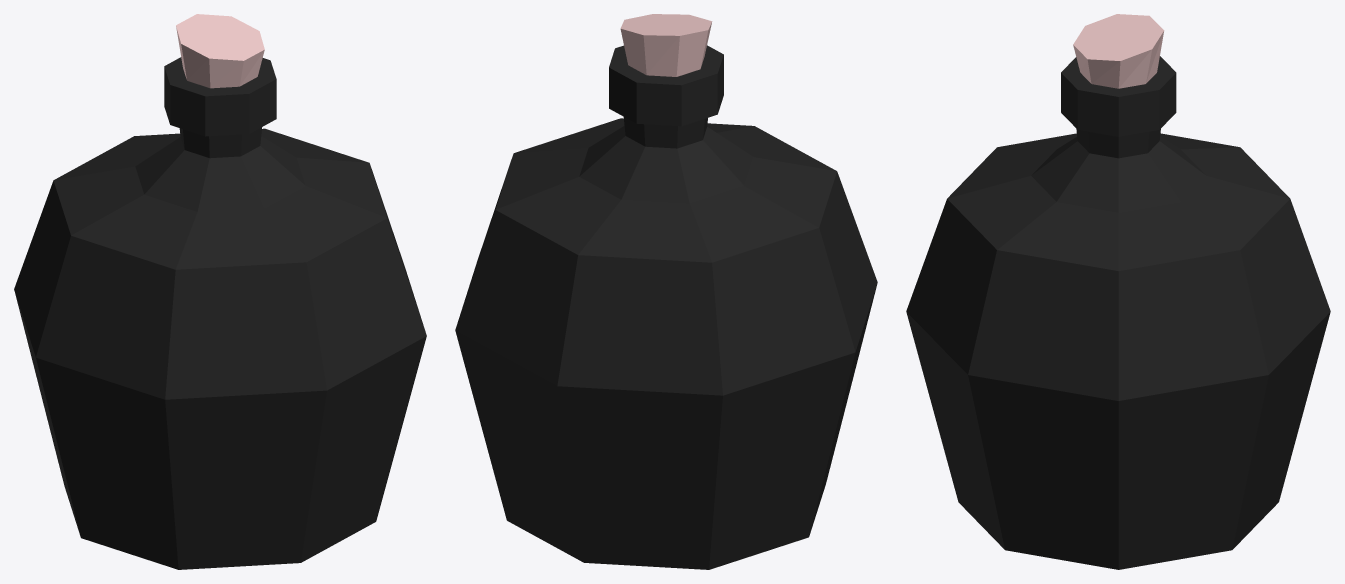
The model's file is SM_Item_Bottle_02.glb.
The picture shows the model from 3 angles, left to right: view 1: azimuth 30°, elevation 25°; view 2: azimuth 150°, elevation 25°; view 3: azimuth 270°, elevation 25°; orthographic projection. The views are drawn at different scales.
Visible parts, largest first — view 1: SM_Item_Bottle_02_00; view 2: SM_Item_Bottle_02_00; view 3: SM_Item_Bottle_02_00.
Boxes of the visible parts, x1,y1,x2,y2 form: SM_Item_Bottle_02_00: [14, 14, 426, 569]; SM_Item_Bottle_02_00: [455, 14, 877, 569]; SM_Item_Bottle_02_00: [906, 14, 1330, 569].
Bounding box in the file's own units: 0.2063 × 0.2533 × 0.2063.
1 material, 1 textured.
